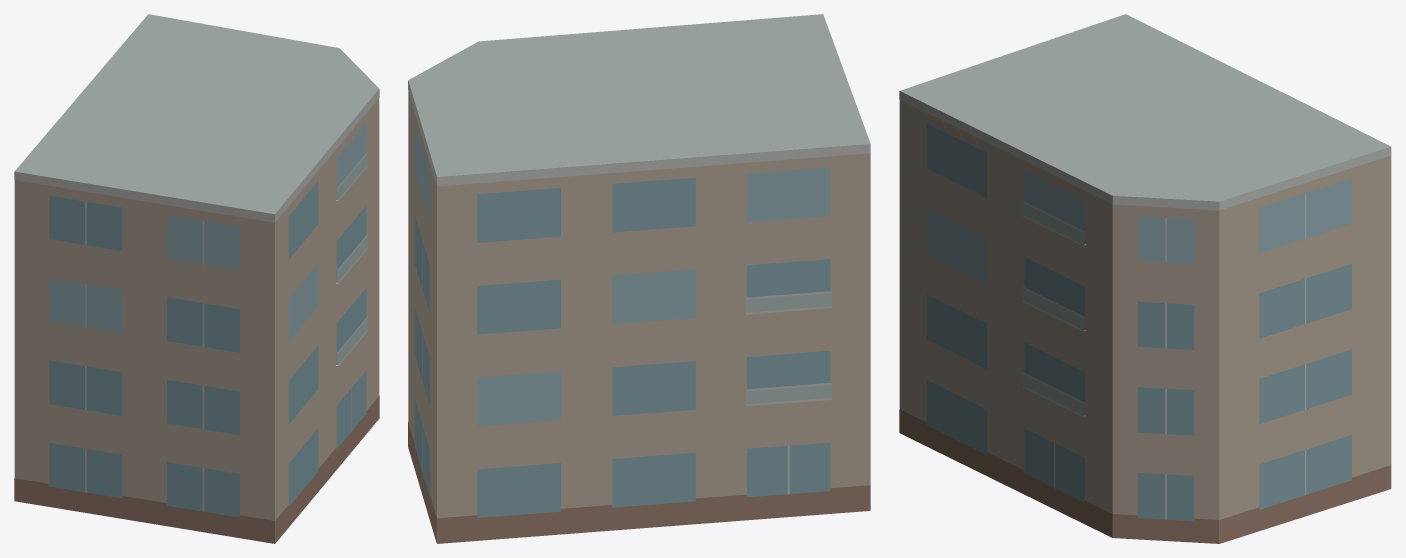
File: survey-upis-32774497.glb
3 views of the same model, side by side, from view 1: azimuth 30°, elevation 25°; view 2: azimuth 150°, elevation 25°; view 3: azimuth 270°, elevation 25° (orthographic). The views are drawn at different scales.
Parts seen in each view (by area): view 1: survey-upis-32774497.tmp; view 2: survey-upis-32774497.tmp; view 3: survey-upis-32774497.tmp.
Part boxes in pixels (box(x1,y1,x2,y2)): survey-upis-32774497.tmp: box(14, 14, 379, 543); survey-upis-32774497.tmp: box(408, 14, 870, 543); survey-upis-32774497.tmp: box(899, 14, 1391, 543).
Size of the model in its own units: 11.17 by 9.49 by 12.37.
